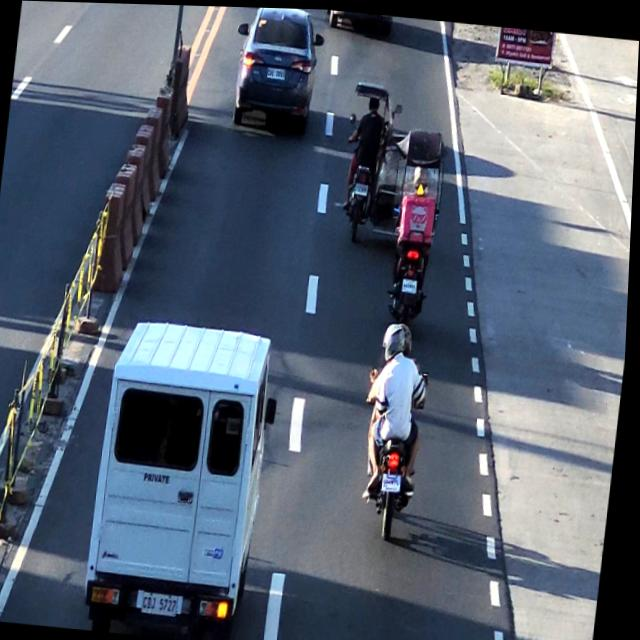Car: (91, 316, 279, 640), (228, 5, 319, 131)
License-Plate: (143, 587, 187, 621), (381, 466, 408, 493), (401, 274, 424, 292), (265, 62, 286, 79), (352, 179, 371, 197)
Motorcycle: (361, 318, 437, 544), (383, 124, 448, 317)
Tricycle: (345, 67, 407, 230)
